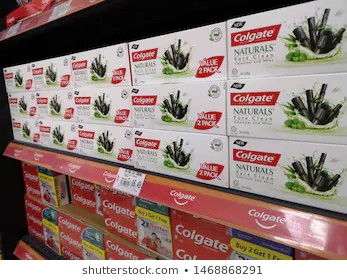colgate-family: (226, 1, 347, 79), (226, 72, 346, 138), (228, 140, 347, 198), (132, 128, 230, 191), (130, 23, 226, 85), (132, 84, 226, 133), (103, 197, 174, 257), (76, 122, 132, 168), (74, 88, 131, 127), (71, 52, 131, 88), (33, 57, 72, 91), (35, 121, 77, 152), (34, 92, 77, 119)
